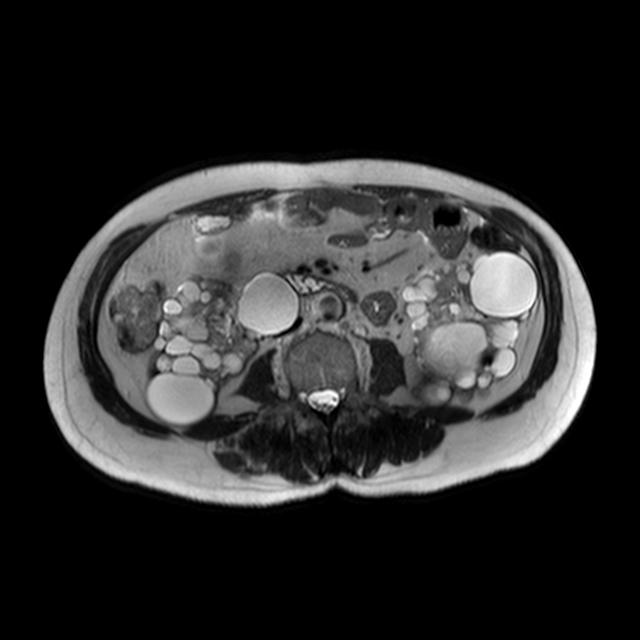sag: (145, 269, 302, 426)
sol: (400, 249, 540, 409)
